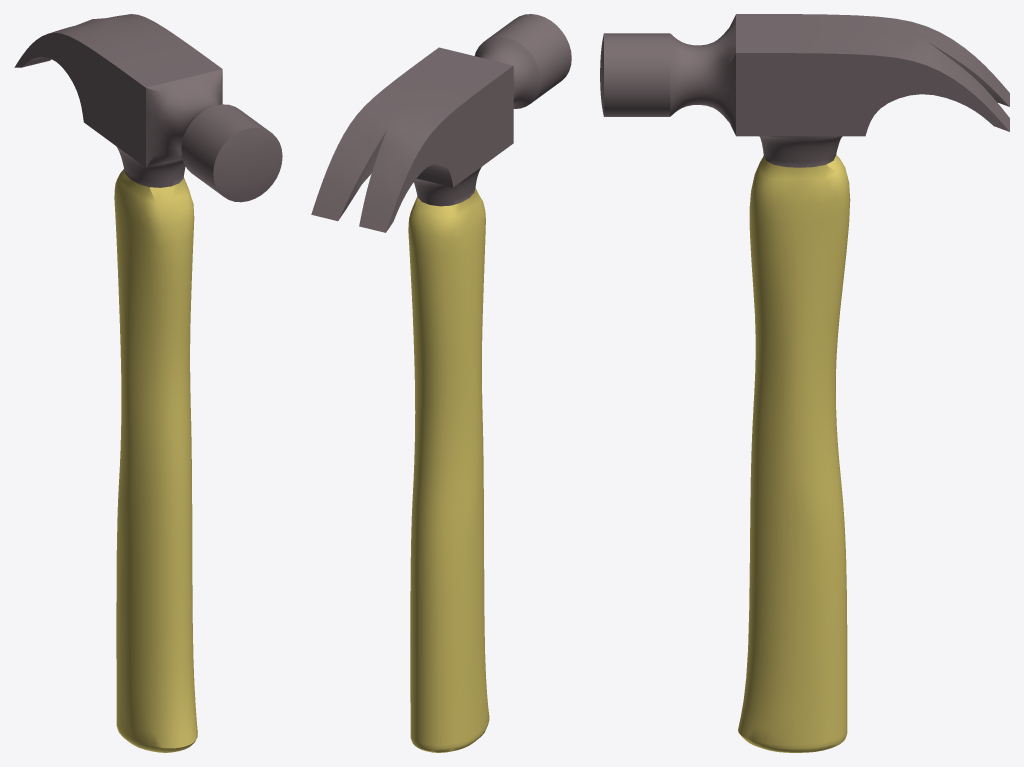
File: hammerlod1.obj
The picture shows the model from 3 angles, left to right: view 1: azimuth 30°, elevation 25°; view 2: azimuth 150°, elevation 25°; view 3: azimuth 270°, elevation 25°; orthographic projection. The views are drawn at different scales.
Parts seen in each view (by area): view 1: mesh01; view 2: mesh01; view 3: mesh01.
Part boxes in pixels (x1,y1,x2,y2): mesh01: (14, 14, 282, 752); mesh01: (311, 14, 571, 752); mesh01: (600, 14, 1009, 752).
Bounding box in the file's own units: 50.29 × 426 × 223.
